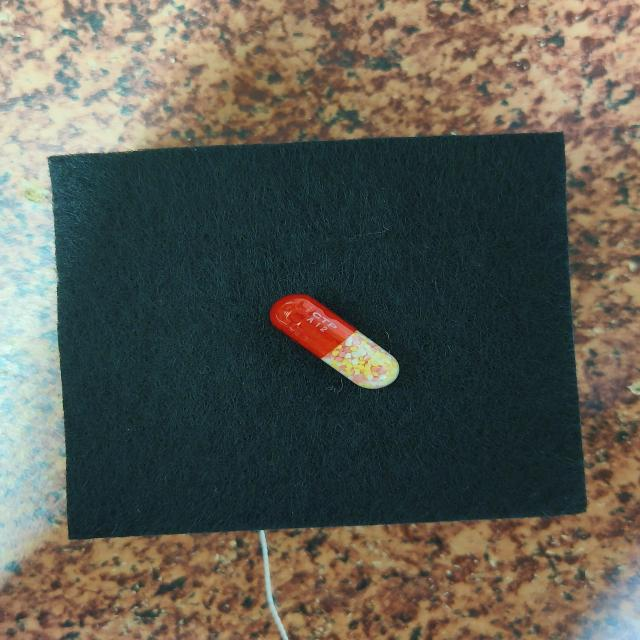Intact Capsule: (270, 294, 399, 389)
